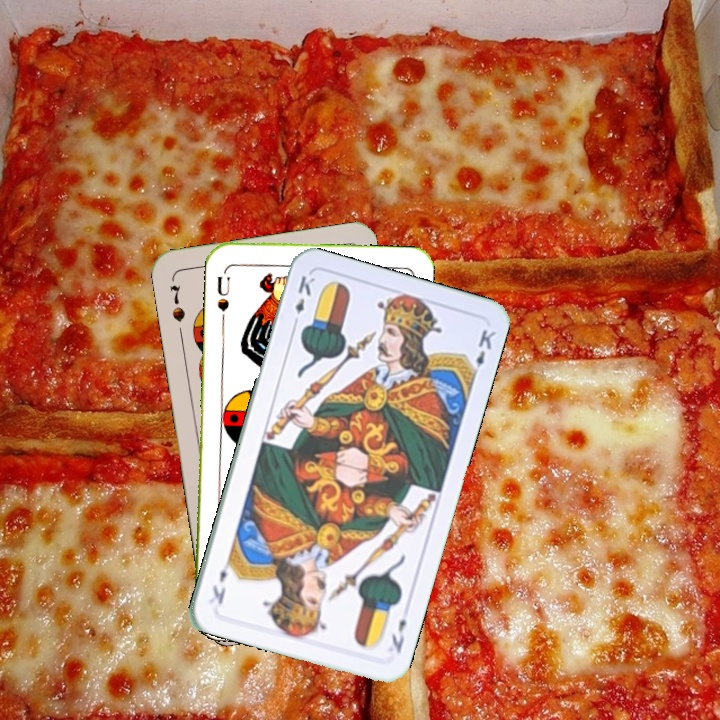EK: (288, 271, 318, 330), (387, 615, 409, 656)
S7: (165, 281, 188, 324)
SU: (213, 272, 233, 314)
